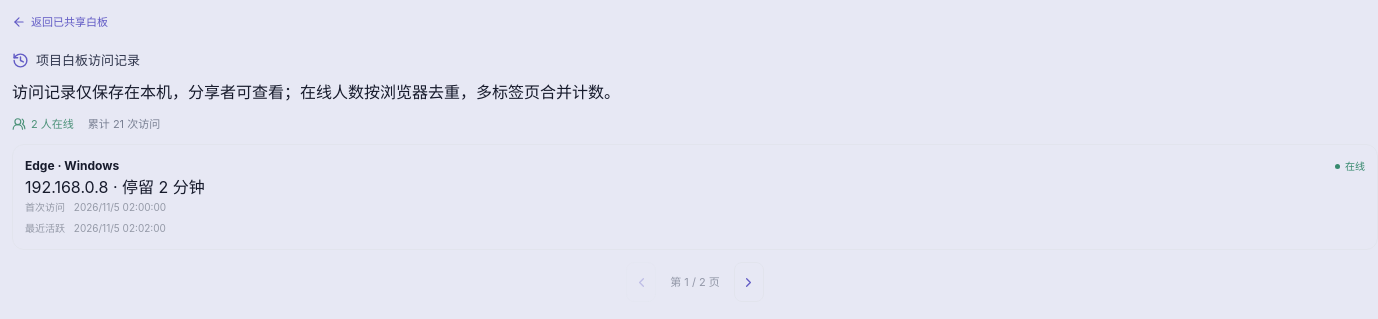
renders private history, browser/IP/status, paginates, and returns to shared boards
Later steps or results of the test are not shown.
Expected: the text "Edge · Windows" is shown, [25,157,119,175]
Expected: the text "2 人在线" is shown, [12,116,74,132]
Click the button named "下一页访问记录" at [749, 282], box [734,262,764,302]
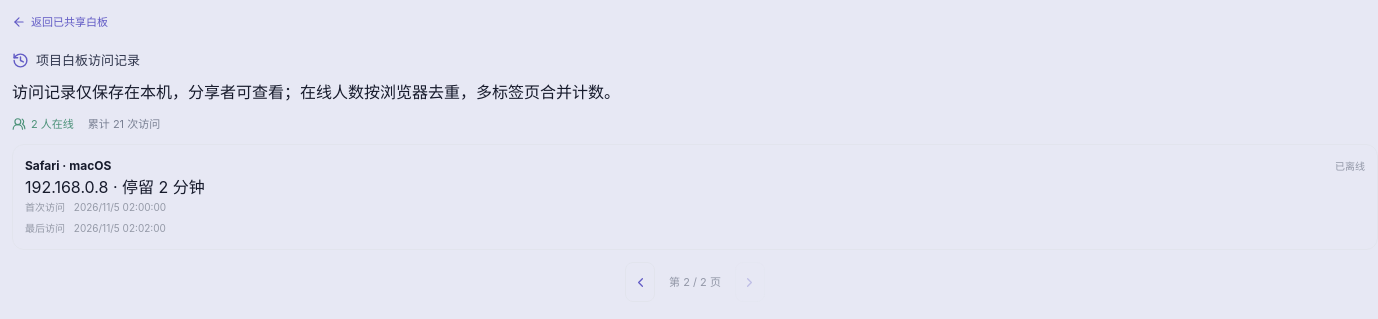
Now the text "Safari · macOS" is shown, box [25,157,111,175]
